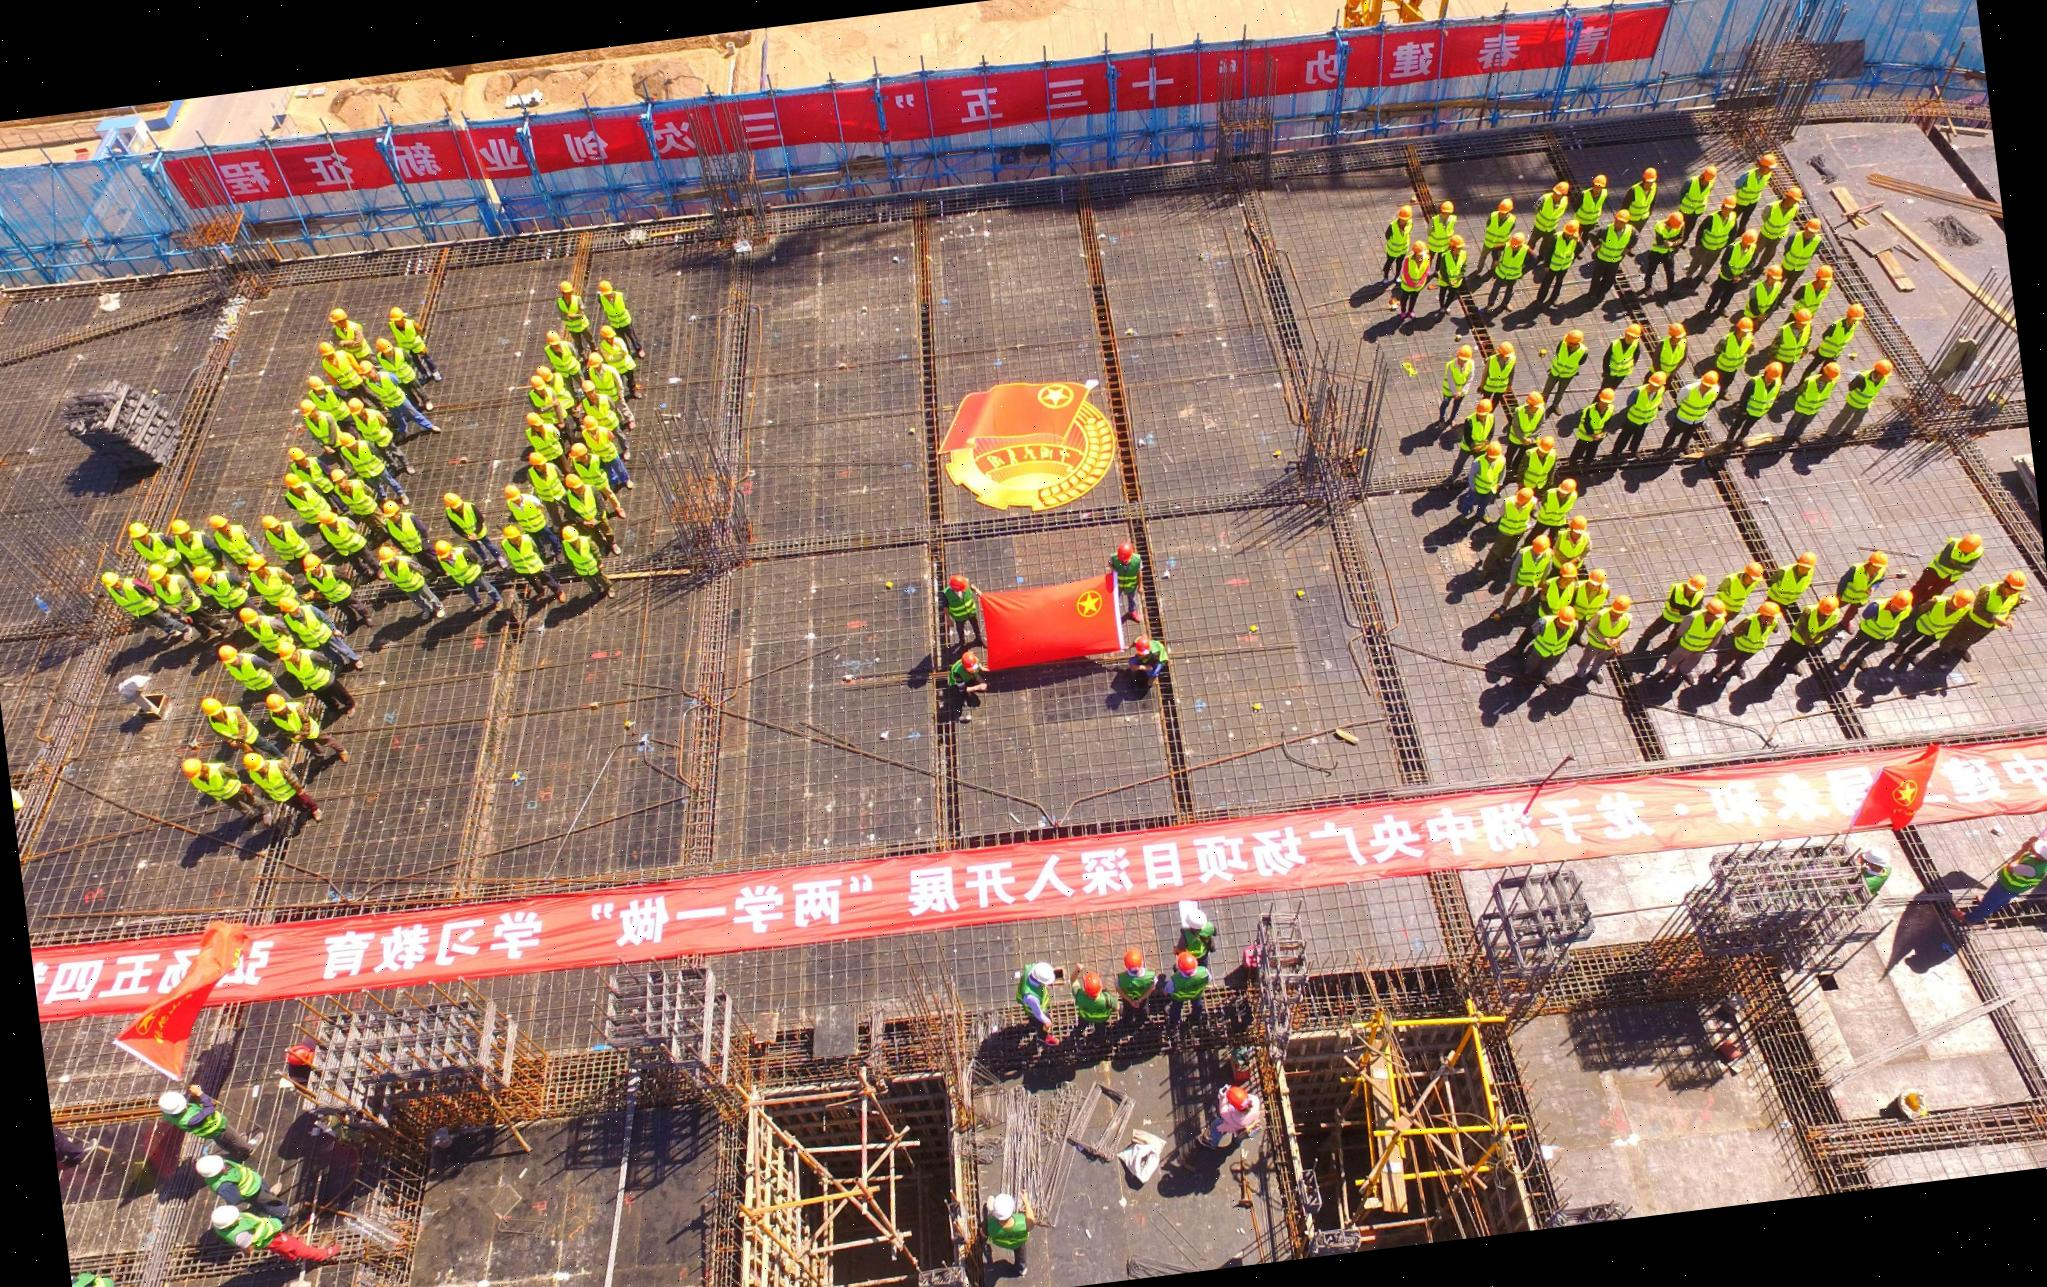helmet: (269, 1232, 319, 1264), (150, 1084, 184, 1120), (188, 1148, 222, 1182), (276, 1044, 316, 1072), (202, 1199, 234, 1233), (1072, 972, 1106, 1002), (1508, 480, 1538, 508), (1176, 907, 1205, 935), (1174, 948, 1200, 977), (1554, 598, 1578, 629), (1223, 1082, 1249, 1110), (552, 274, 579, 300), (1116, 945, 1145, 969), (1695, 369, 1722, 393), (1112, 540, 1133, 570), (941, 567, 966, 591), (952, 647, 976, 672), (1129, 629, 1153, 654), (592, 276, 617, 300), (1480, 436, 1504, 461), (1524, 532, 1548, 556), (539, 328, 564, 348), (590, 321, 613, 342), (1453, 344, 1473, 366), (1474, 393, 1496, 412)
wear: (107, 578, 141, 630), (562, 534, 598, 580), (252, 758, 288, 796), (1590, 614, 1626, 651), (581, 432, 614, 470), (1513, 407, 1550, 438), (528, 471, 561, 505), (507, 536, 534, 575), (1542, 496, 1576, 526), (444, 552, 470, 590)
